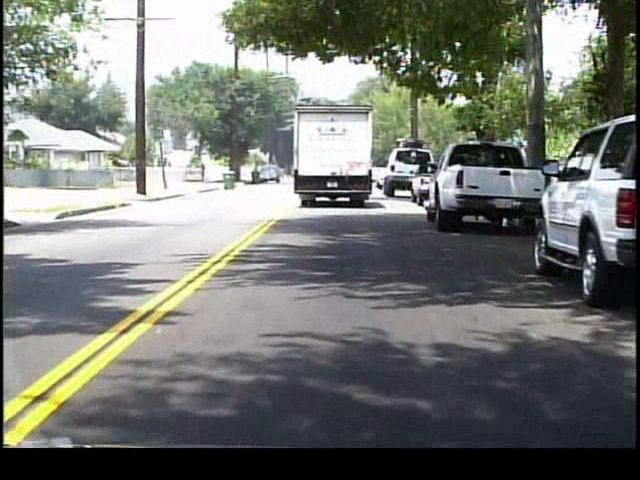person: (200, 162, 209, 185)
